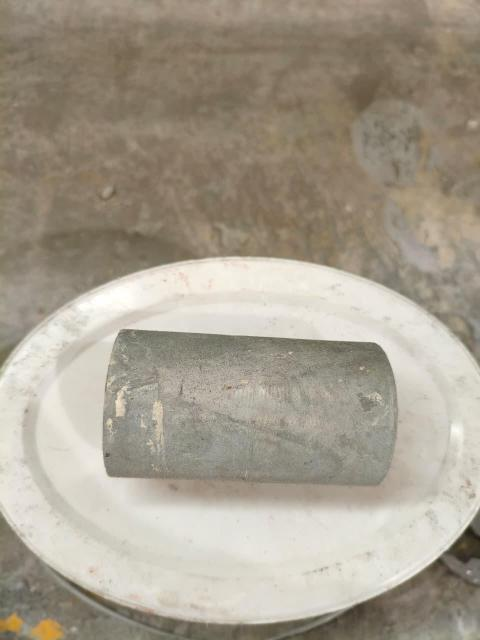Metal: (102, 330, 402, 487)
